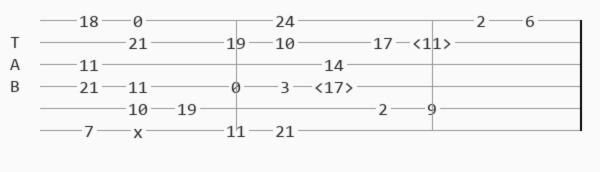0: (133, 13, 147, 28), (231, 79, 245, 94)
10: (128, 101, 152, 116), (275, 35, 299, 50)
11: (79, 57, 103, 72), (128, 79, 152, 94), (226, 123, 250, 138)
14: (324, 57, 348, 72)
17: (373, 35, 397, 50)
18: (79, 13, 103, 28)
19: (177, 101, 201, 116), (226, 35, 250, 50)
2: (378, 101, 392, 116), (476, 13, 490, 28)
21: (79, 79, 103, 94), (128, 35, 152, 50), (275, 123, 299, 138)
24: (275, 13, 299, 28)
3: (280, 79, 294, 94)
6: (525, 13, 539, 28)
7: (84, 123, 98, 138)
9: (427, 101, 441, 116)
harmonic: (314, 79, 358, 94), (412, 35, 456, 50)
x: (133, 124, 147, 137)
